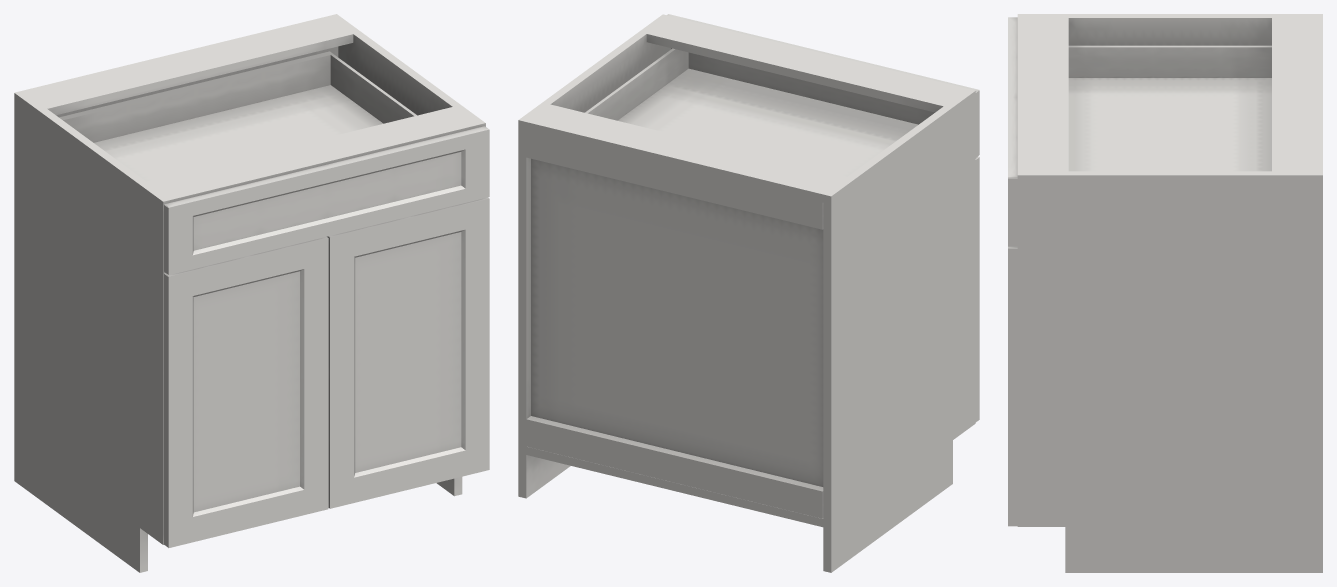
The model's file is 2-door-1-drawer-base-doors-on.glb.
The picture shows the model from 3 angles, left to right: view 1: azimuth 30°, elevation 25°; view 2: azimuth 150°, elevation 25°; view 3: azimuth 270°, elevation 25°; orthographic projection. The views are drawn at different scales.
Parts seen in each view (by area): view 1: part_10, part_0, part_3; view 2: part_0, part_3, part_10; view 3: part_0, part_3, part_10.
Part boxes in pixels (left/top/right/bottom): part_10: left=164, top=126, right=489, bottom=547; part_0: left=14, top=14, right=485, bottom=572; part_3: left=59, top=51, right=416, bottom=181; part_0: left=518, top=14, right=975, bottom=572; part_3: left=585, top=48, right=918, bottom=176; part_10: left=667, top=14, right=979, bottom=422; part_0: left=1017, top=14, right=1322, bottom=572; part_3: left=1068, top=45, right=1271, bottom=171; part_10: left=1008, top=17, right=1017, bottom=526.
Bounding box in the file's own units: 0.762 × 0.8763 × 0.6286.
Materials: 3 (2 with a texture image).
